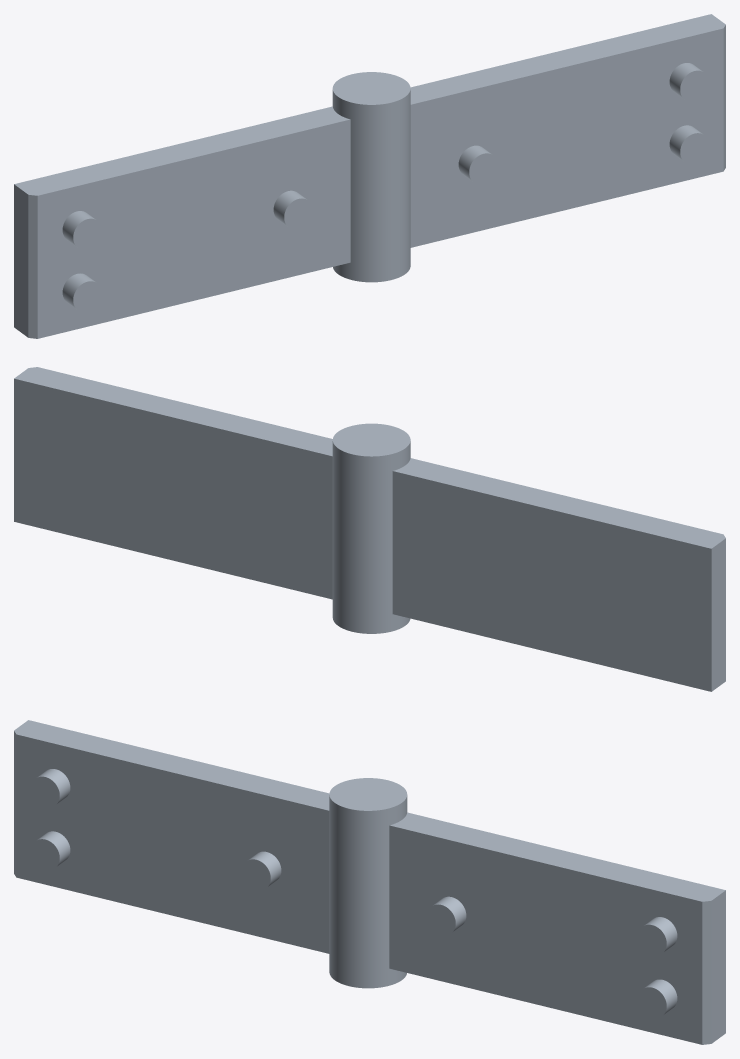
Rendered from dobradica-palicada.glb.
3 renders of one model, top to bottom at view 1: azimuth 30°, elevation 25°; view 2: azimuth 150°, elevation 25°; view 3: azimuth 330°, elevation 25°, orthographic.
Visible parts, largest first — view 1: Chapa de fixação, Chapa móvel, Pino de ferro, Rebite 3, Rebite 1, Rebite 2, Rebite 4, Rebite 5, Rebite 6; view 2: Chapa de fixação, Chapa móvel, Pino de ferro; view 3: Chapa móvel, Chapa de fixação, Pino de ferro, Rebite 4, Rebite 3, Rebite 1, Rebite 2, Rebite 5, Rebite 6.
Part boxes in pixels (x1=…): Chapa de fixação: x1=14, y1=106, x2=350, y2=338; Chapa móvel: x1=410, y1=14, x2=725, y2=247; Pino de ferro: x1=332, y1=72, x2=410, y2=282; Rebite 3: x1=273, y1=190, x2=312, y2=229; Rebite 1: x1=62, y1=273, x2=101, y2=312; Rebite 2: x1=62, y1=211, x2=101, y2=249; Rebite 4: x1=458, y1=145, x2=497, y2=184; Rebite 5: x1=669, y1=125, x2=708, y2=164; Rebite 6: x1=669, y1=63, x2=708, y2=101; Chapa de fixação: x1=392, y1=458, x2=725, y2=691; Chapa móvel: x1=14, y1=367, x2=332, y2=599; Pino de ferro: x1=332, y1=423, x2=410, y2=633; Chapa móvel: x1=389, y1=812, x2=725, y2=1044; Chapa de fixação: x1=14, y1=720, x2=329, y2=953; Pino de ferro: x1=329, y1=778, x2=407, y2=988; Rebite 4: x1=427, y1=896, x2=466, y2=935; Rebite 3: x1=242, y1=851, x2=281, y2=890; Rebite 1: x1=31, y1=831, x2=70, y2=870; Rebite 2: x1=31, y1=769, x2=70, y2=807; Rebite 5: x1=638, y1=979, x2=677, y2=1018; Rebite 6: x1=638, y1=917, x2=677, y2=955.
Bounding box in the file's own units: 0.724 × 0.176 × 0.07.
